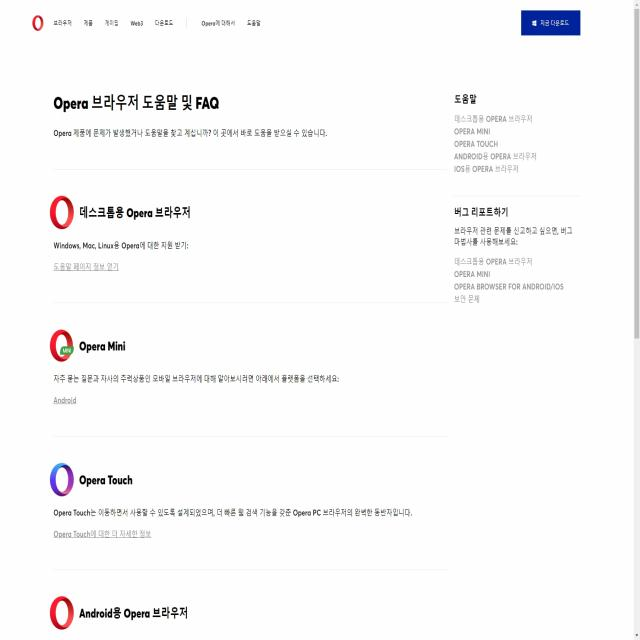menu-bar: (49, 9, 266, 36)
side-panel: (446, 85, 580, 312)
